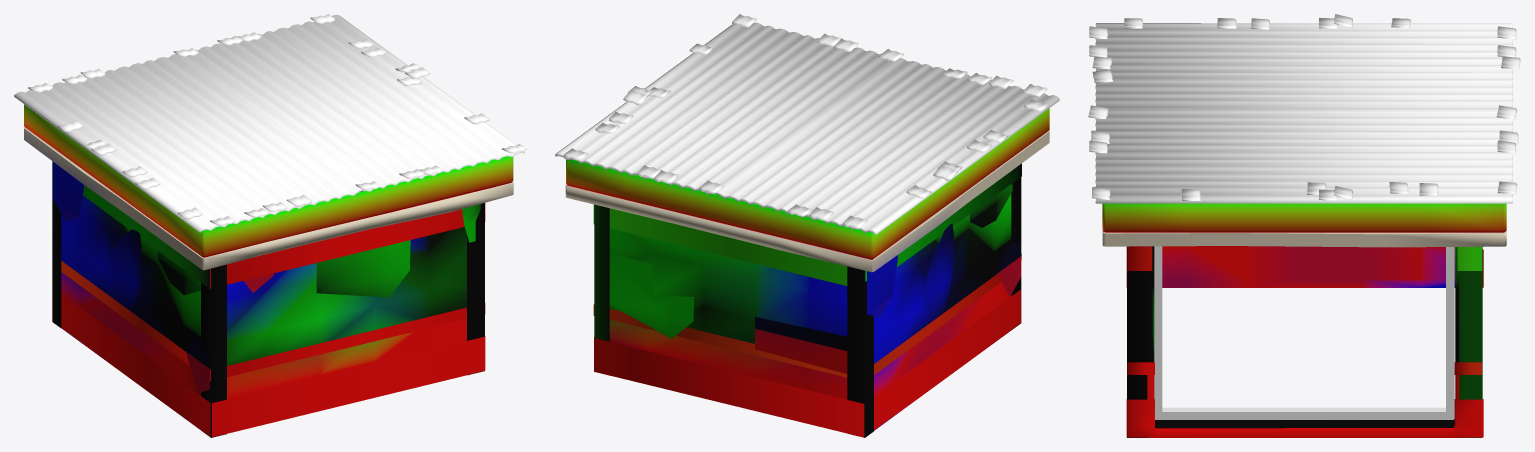
The model's file is ExtraBuilding_A_Snaps004.FBX.
3 views of the same model, side by side, from view 1: azimuth 30°, elevation 25°; view 2: azimuth 150°, elevation 25°; view 3: azimuth 270°, elevation 25° (orthographic). The views are drawn at different scales.
Parts seen in each view (by area): view 1: Geometry_ExtraBuilding_A_LOD00, Geometry_Decal_B_LOD00, Geometry_Decal_C_LOD00, Geometry_Decal_A_LOD00; view 2: Geometry_ExtraBuilding_A_LOD00, Geometry_Decal_B_LOD00, Geometry_Decal_C_LOD00, Geometry_Decal_A_LOD00; view 3: Geometry_ExtraBuilding_A_LOD00, Geometry_Decal_B_LOD00, Geometry_WindowsFrame_LOD00, Geometry_Decal_A_LOD00.
Part boxes in pixels (<box>): Geometry_ExtraBuilding_A_LOD00: <box>14,14,526,433</box>; Geometry_Decal_B_LOD00: <box>52,161,485,437</box>; Geometry_Decal_C_LOD00: <box>52,161,480,393</box>; Geometry_Decal_A_LOD00: <box>52,163,484,437</box>; Geometry_ExtraBuilding_A_LOD00: <box>555,14,1059,430</box>; Geometry_Decal_B_LOD00: <box>593,163,1021,437</box>; Geometry_Decal_C_LOD00: <box>609,184,1021,373</box>; Geometry_Decal_A_LOD00: <box>594,177,1021,437</box>; Geometry_ExtraBuilding_A_LOD00: <box>1088,14,1520,437</box>; Geometry_Decal_B_LOD00: <box>1126,246,1483,437</box>; Geometry_WindowsFrame_LOD00: <box>1154,246,1454,419</box>; Geometry_Decal_A_LOD00: <box>1126,247,1482,437</box>.
Size of what is drawn, in the model's own units: 366 by 242 by 366.
